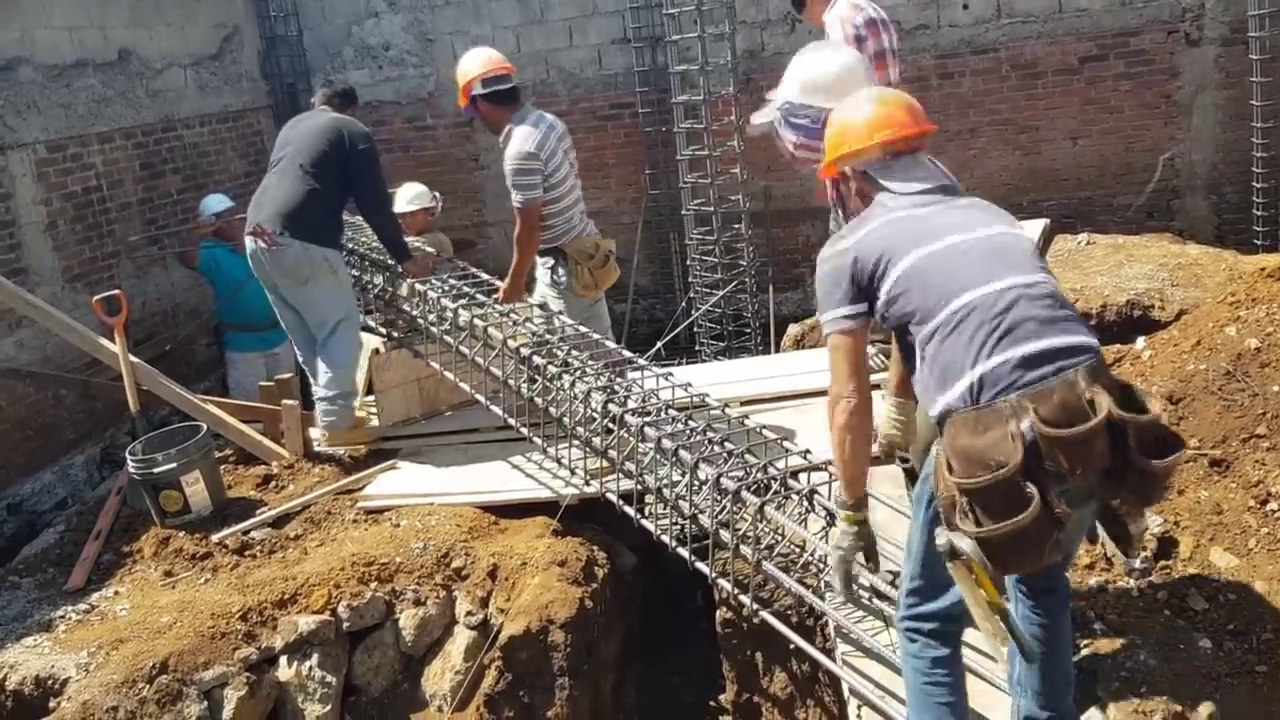helmet: (820, 86, 937, 179), (764, 38, 883, 127), (452, 45, 525, 108), (388, 178, 430, 220), (196, 194, 239, 221)
helmet-off: (310, 79, 359, 119), (788, 0, 831, 29)
helmet-on: (820, 84, 943, 223), (761, 37, 885, 170), (450, 46, 525, 136), (197, 194, 251, 251), (388, 178, 439, 238)
person: (818, 86, 1119, 718), (450, 45, 625, 479), (244, 77, 411, 451), (180, 195, 296, 402), (786, 0, 899, 83), (388, 178, 453, 263)
